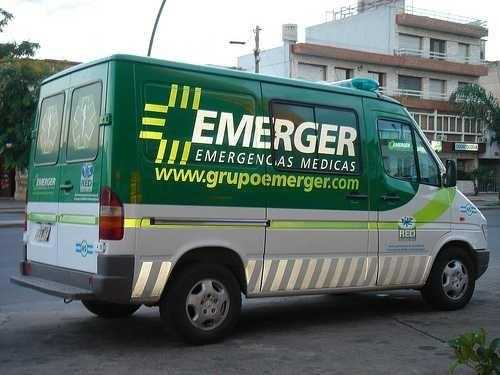car: (9, 52, 490, 344)
